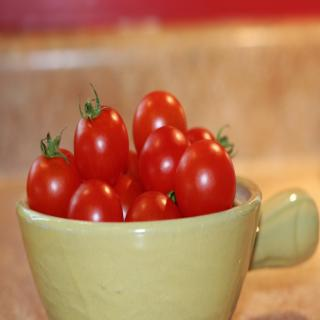tomato: (74, 81, 129, 186), (26, 124, 84, 217), (174, 138, 236, 219), (130, 90, 188, 156), (139, 125, 189, 201), (67, 178, 124, 220), (124, 189, 185, 223), (189, 124, 238, 148), (116, 173, 140, 220)
